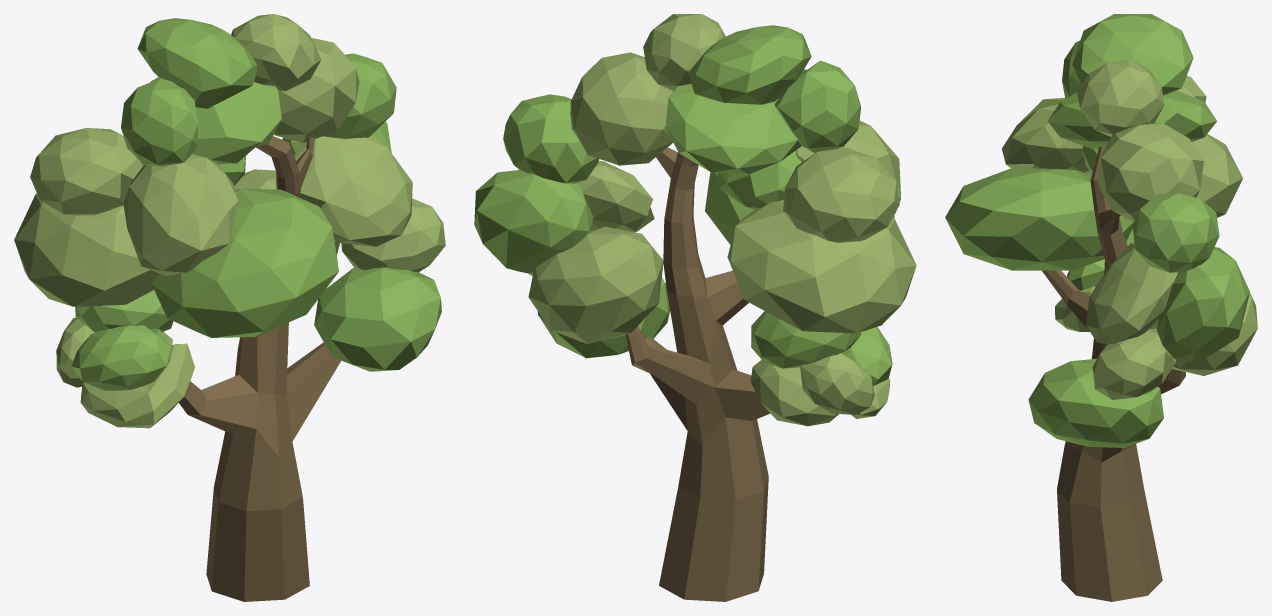
Rendered from Oak_Tree.glb.
3 renders of one model, left to right at view 1: azimuth 30°, elevation 25°; view 2: azimuth 150°, elevation 25°; view 3: azimuth 270°, elevation 25°, orthographic. The views are drawn at different scales.
Visible parts, largest first — view 1: Oak; view 2: Oak; view 3: Oak.
Boxes of the visible parts, x1,y1,x2,y2 form: Oak: [14, 14, 445, 601]; Oak: [474, 14, 916, 601]; Oak: [945, 14, 1257, 601].
Size of the model in its own units: 3.96 by 5.31 by 2.84.
1 material, 1 textured.
